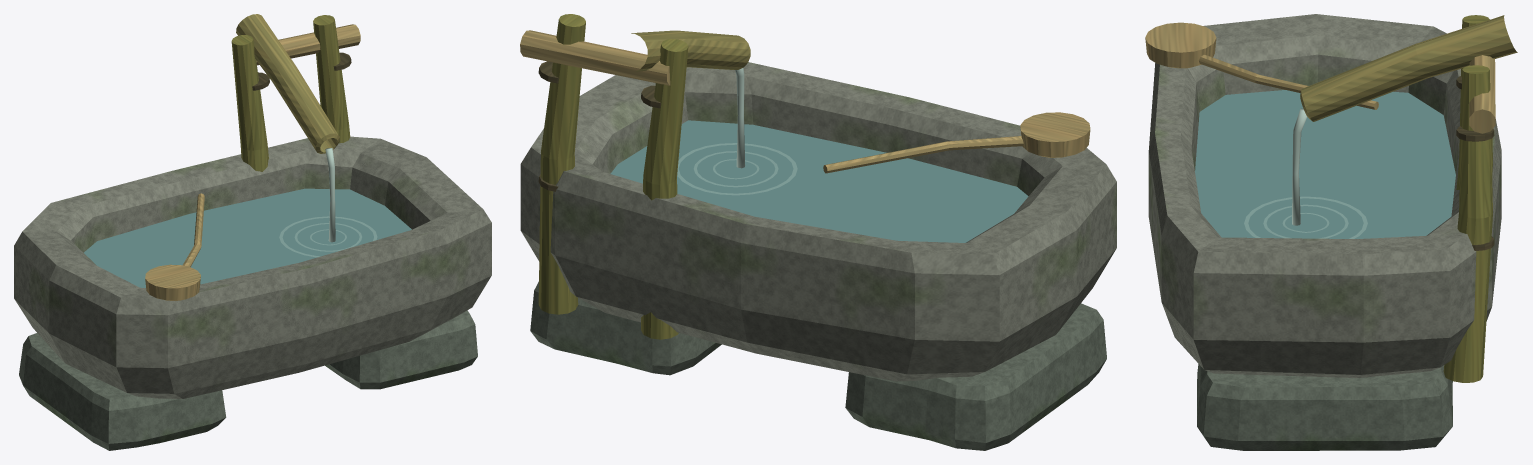
The model's file is water-basin.glb.
3 views of the same model, side by side, from view 1: azimuth 30°, elevation 25°; view 2: azimuth 150°, elevation 25°; view 3: azimuth 270°, elevation 25° (orthographic). The views are drawn at different scales.
Visible parts, largest first — view 1: Weathered granite footings, rolled stone lip and carved trou, Trough surface, lip ripples and continuous falling stream, Hollow cut bamboo spout, tied supports and serving ladle; view 2: Weathered granite footings, rolled stone lip and carved trou, Trough surface, lip ripples and continuous falling stream, Hollow cut bamboo spout, tied supports and serving ladle; view 3: Weathered granite footings, rolled stone lip and carved trou, Trough surface, lip ripples and continuous falling stream, Hollow cut bamboo spout, tied supports and serving ladle.
Part boxes in pixels (x1,y1,x2,y2): Weathered granite footings, rolled stone lip and carved trou: (14, 136, 491, 450); Trough surface, lip ripples and continuous falling stream: (84, 148, 411, 287); Hollow cut bamboo spout, tied supports and serving ladle: (145, 14, 360, 300); Weathered granite footings, rolled stone lip and carved trou: (520, 62, 1116, 450); Trough surface, lip ripples and continuous falling stream: (610, 68, 1028, 242); Hollow cut bamboo spout, tied supports and serving ladle: (520, 14, 1090, 339); Weathered granite footings, rolled stone lip and carved trou: (1148, 14, 1501, 450); Trough surface, lip ripples and continuous falling stream: (1195, 90, 1455, 238); Hollow cut bamboo spout, tied supports and serving ladle: (1145, 15, 1517, 382).
Size of the model in its own units: 1.83 by 1.26 by 1.16.
Materials: 3 (2 with a texture image).
